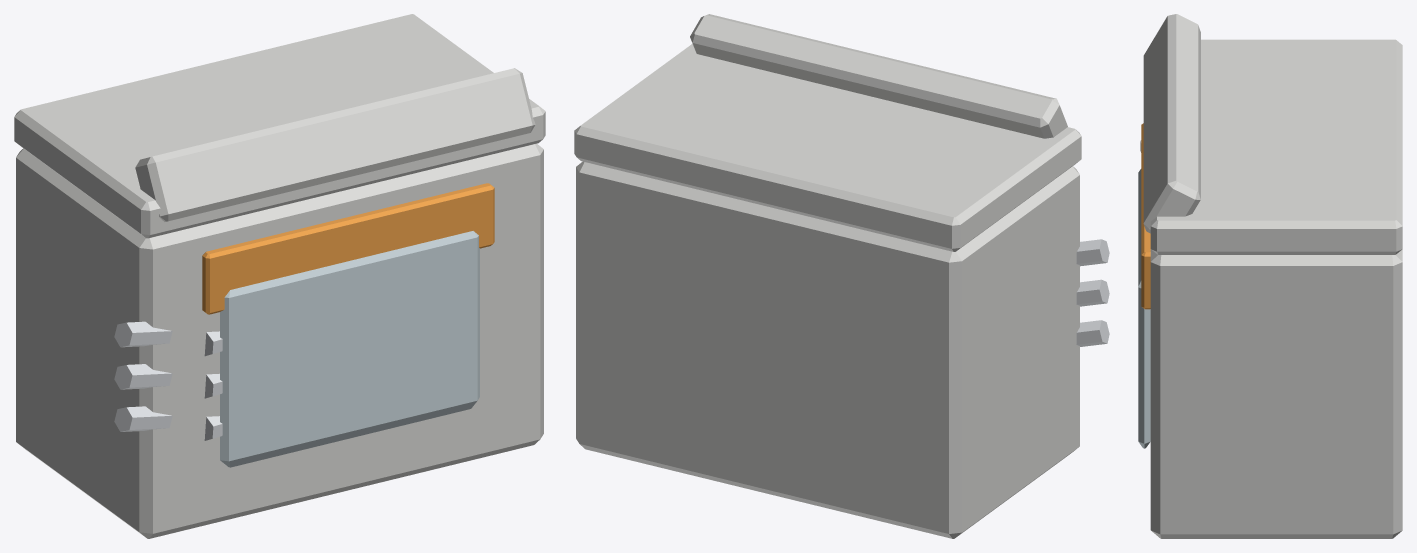
The picture shows the model from 3 angles, left to right: view 1: azimuth 30°, elevation 25°; view 2: azimuth 150°, elevation 25°; view 3: azimuth 270°, elevation 25°; orthographic projection. The views are drawn at different scales.
Visible parts, largest first — view 1: screw-box; view 2: screw-box; view 3: screw-box.
Boxes of the visible parts, x1,y1,x2,y2 form: screw-box: [14, 14, 545, 538]; screw-box: [574, 14, 1109, 538]; screw-box: [1138, 14, 1402, 538].
Bounding box in the file's own units: 0.1484 × 0.1235 × 0.084.
